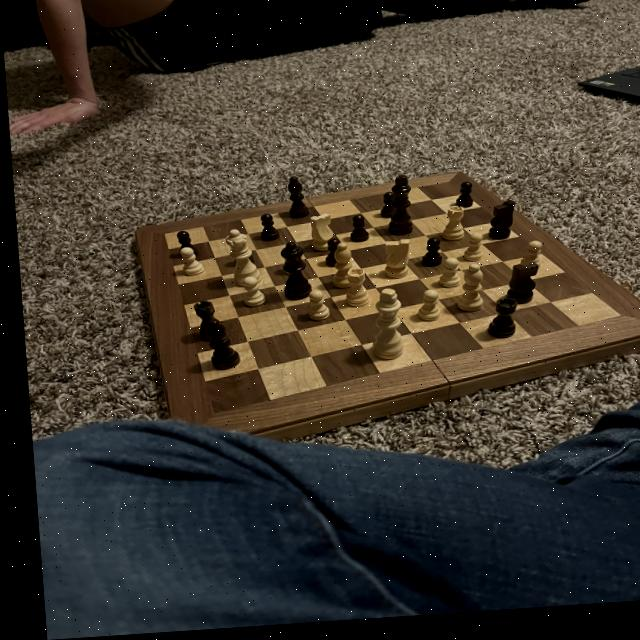bishop: (197, 319, 236, 376), (280, 177, 307, 225)
black-bishop: (377, 177, 415, 244)
black-king: (495, 267, 538, 314), (480, 205, 515, 249)
black-knight: (412, 241, 439, 275), (447, 186, 474, 216), (252, 214, 277, 246), (342, 218, 366, 250), (170, 232, 195, 262), (316, 242, 339, 274), (371, 195, 394, 224)
black-pawn: (272, 243, 311, 307)
black-queen: (477, 302, 517, 348), (185, 301, 218, 344)
black-rook: (444, 267, 483, 324), (321, 246, 354, 297)
white-bishop: (356, 291, 403, 369)
white-king: (373, 241, 411, 287), (303, 216, 334, 258)
white-knight: (406, 294, 438, 331), (297, 291, 327, 327), (510, 246, 542, 279), (234, 278, 264, 313), (173, 247, 202, 281), (455, 236, 484, 269), (430, 262, 456, 296)
white-pawn: (217, 228, 261, 294)
white-queen: (333, 270, 370, 315), (432, 210, 464, 250)
